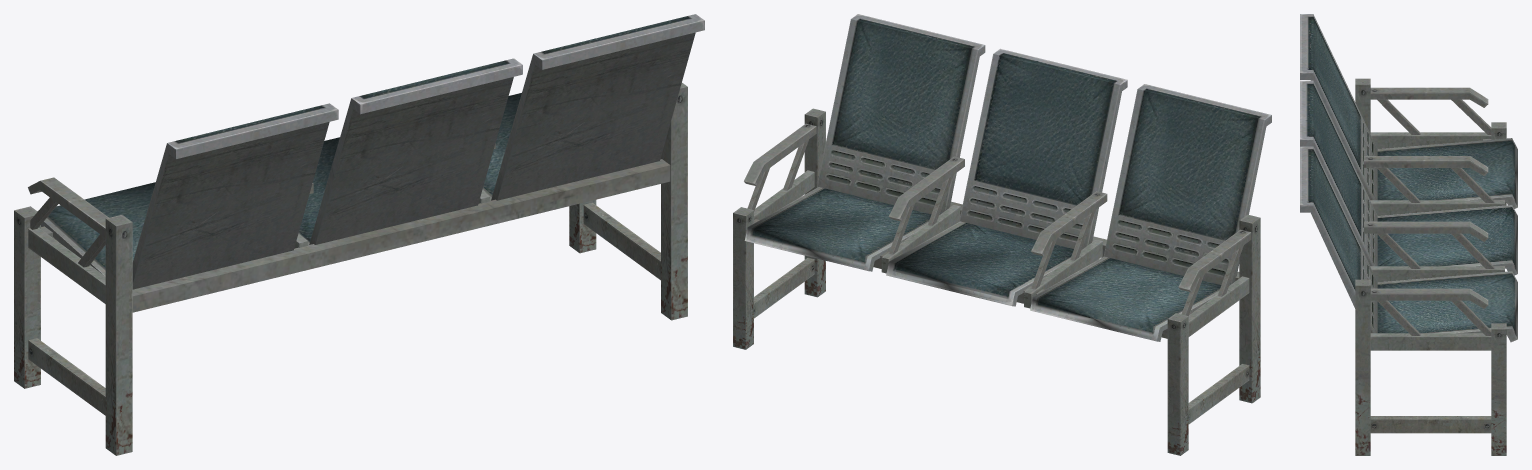
File: Prop_Yyyz02.glb
3 renders of one model, left to right at view 1: azimuth 30°, elevation 25°; view 2: azimuth 150°, elevation 25°; view 3: azimuth 270°, elevation 25°, orthographic. The views are drawn at different scales.
Visible parts, largest first — view 1: xiutz_yyyz_02; view 2: xiutz_yyyz_02; view 3: xiutz_yyyz_02.
Part boxes in pixels (bbox=[...]): xiutz_yyyz_02: bbox=[14, 14, 704, 455]; xiutz_yyyz_02: bbox=[733, 14, 1271, 455]; xiutz_yyyz_02: bbox=[1300, 14, 1517, 455].
Bounding box in the file's own units: 3.1 × 1.7 × 1.38.
1 material, 1 textured.
